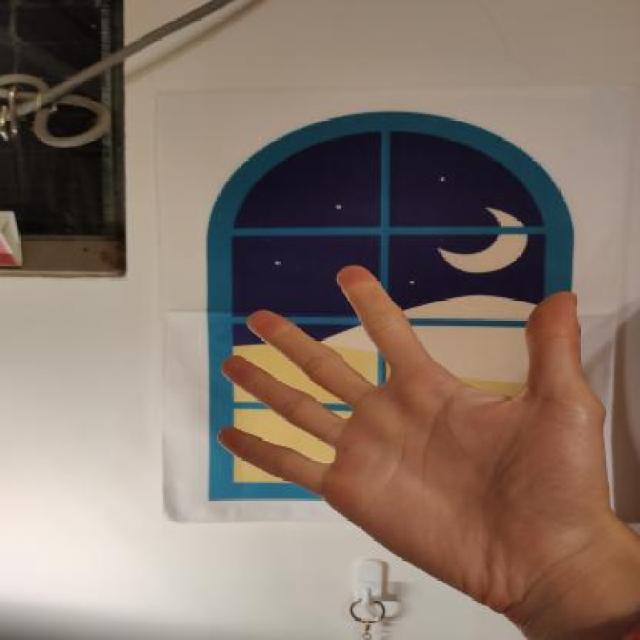bare_hand: (198, 254, 636, 611)
